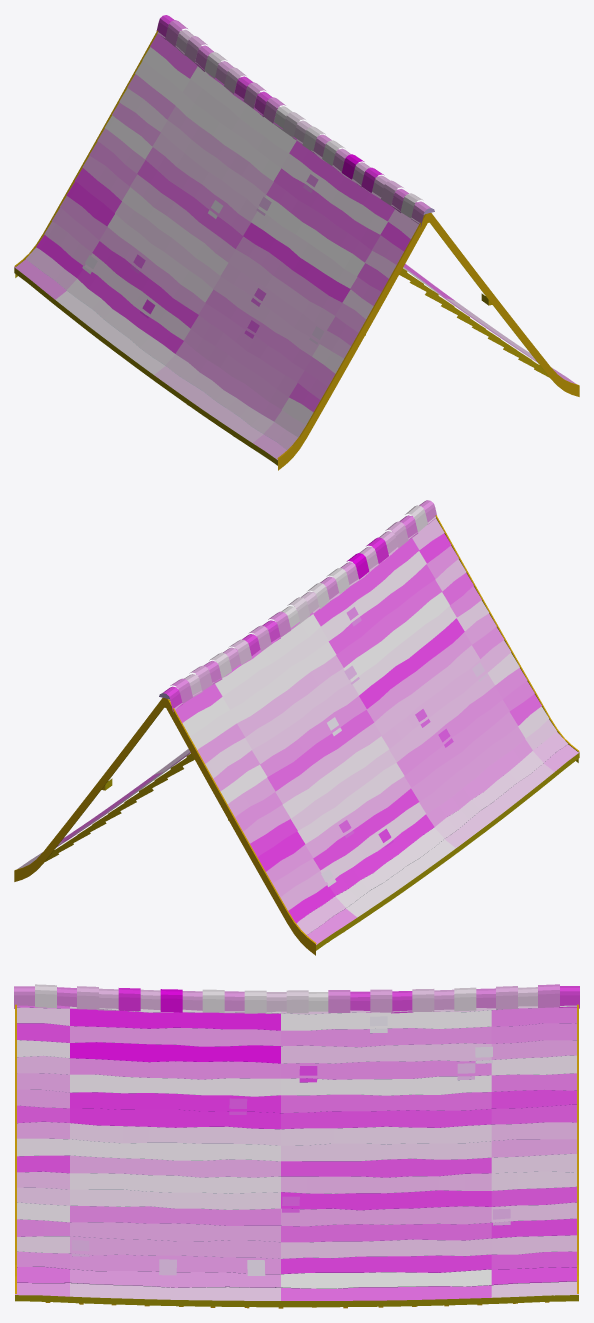
The model's file is roof_p_6x10.glb.
The picture shows the model from 3 angles, top to bottom: view 1: azimuth 30°, elevation 25°; view 2: azimuth 150°, elevation 25°; view 3: azimuth 270°, elevation 25°; orthographic projection. The views are drawn at different scales.
Visible parts, largest first — view 1: roof_p_6x10; view 2: roof_p_6x10; view 3: roof_p_6x10.
Part boxes in pixels (box(x1,y1,x2,y2)): roof_p_6x10: box(14, 15, 579, 470); roof_p_6x10: box(14, 500, 579, 955); roof_p_6x10: box(14, 984, 579, 1308).
Size of the model in its own units: 7.08 by 5.15 by 10.74.
